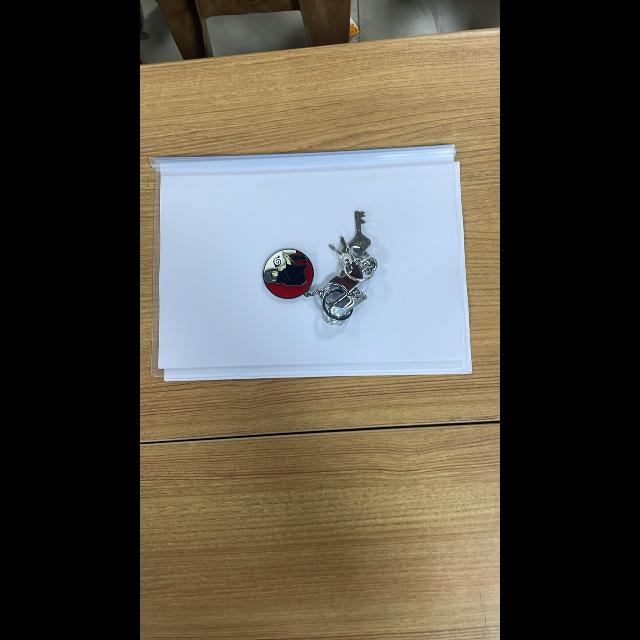keys: (261, 199, 399, 345)
